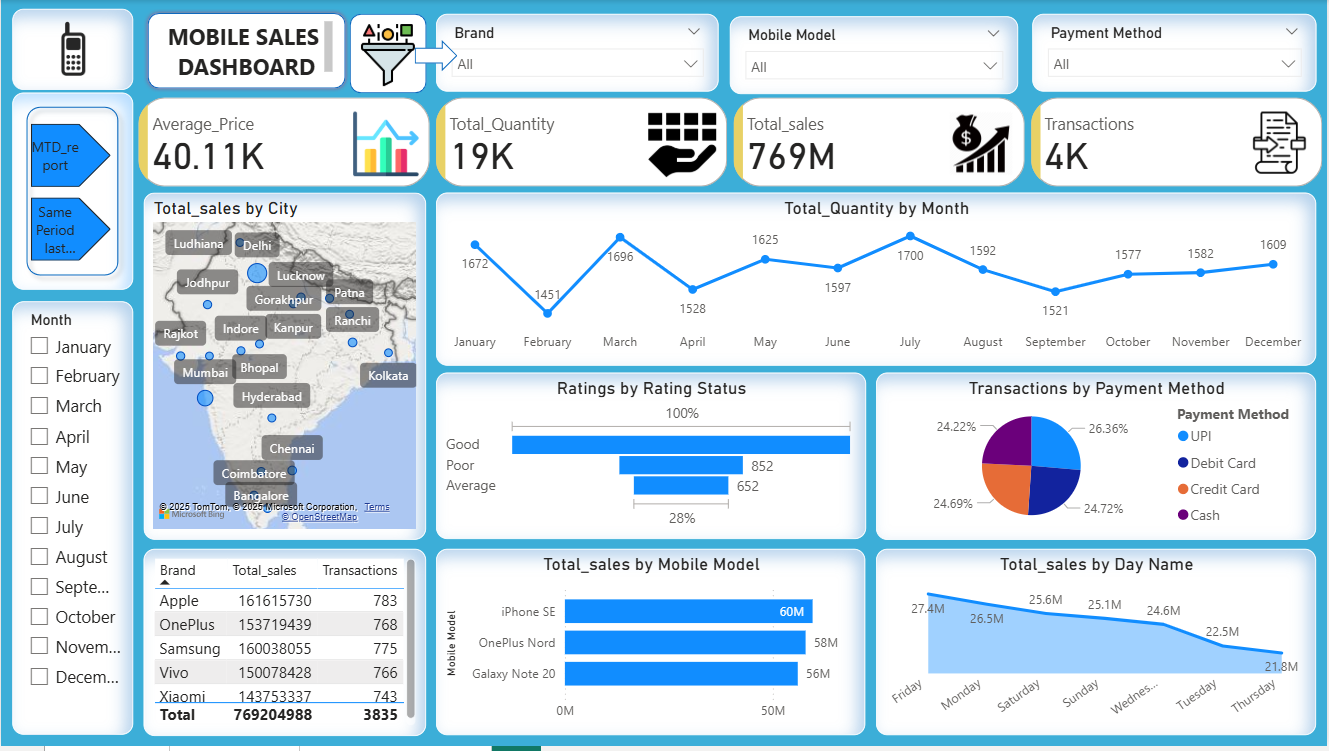

This screenshot's page, from the dashboard's own definition file:
{"tool":"powerbi","page":{"name":"Dashboard","canvas":[1280,720],"ordinal":0},"visuals":[{"type":"shape","box":[11,8.2,116.6,78.2],"z":0},{"type":"image","box":[10.9,8.4,117,78.4],"z":1000},{"type":"shape","box":[11,89.2,116.6,190.7],"z":2000},{"type":"shape","box":[11,290.9,116.6,418.5],"z":3000},{"type":"cardVisual","fields":{"Data":["sales_data.Average_Price","sales_data.Total_Quantity","sales_data.Total_sales","sales_data.Transactions"]},"box":[127.9,89.3,1152.2,96.5],"z":4000},{"type":"slicer","fields":{"Values":["sales_data.Payment Method"]},"box":[994.9,13.7,274.4,75.5],"z":5000},{"type":"slicer","fields":{"Values":["sales_data.Mobile Model"]},"box":[703.9,15.1,278.6,75.5],"z":6000},{"type":"slicer","fields":{"Values":["sales_data.Brand"]},"box":[419.9,13.7,273.1,75.5],"z":7000},{"type":"shape","box":[336.2,13.7,74.1,76.8],"z":8000},{"type":"image","box":[336.2,8.2,74.1,89.2],"z":9000},{"type":"shape","box":[399.3,38.4,41.2,30.2],"z":10000},{"type":"shape","box":[137.2,8.2,199,81],"z":11000},{"type":"textbox","box":[152.3,15.1,172.9,63.1],"z":12000},{"type":"map","fields":{"Category":["sales_data.City"],"Size":["sales_data.Total_sales"]},"box":[137.2,185.2,273.1,334.8],"z":13000},{"type":"lineChart","fields":{"Y":["sales_data.Total_Quantity"],"Category":["Custom_Calender.date.Variation.Date Hierarchy.Month"]},"box":[419.9,185.2,849.4,167.4],"z":14000},{"type":"funnel","title":"Ratings by Rating Status","fields":{"Y":["CountNonNull(sales_data.Customer Ratings)"],"Category":["sales_data.Rating Status"]},"box":[419.8,359.5,415,160.5],"z":15000},{"type":"pieChart","fields":{"Category":["sales_data.Payment Method"],"Y":["sales_data.Transactions"]},"box":[844.5,359.5,424.7,161.7],"z":16000},{"type":"clusteredBarChart","fields":{"Y":["sales_data.Total_sales"],"Category":["sales_data.Mobile Model"]},"box":[419.9,529.7,414.4,179.8],"z":17000},{"type":"areaChart","fields":{"Y":["sales_data.Total_sales"],"Category":["Custom_Calender.Day Name"]},"box":[844.5,529.6,424.7,179.8],"z":18000},{"type":"tableEx","fields":{"Values":["sales_data.Brand","sales_data.Total_sales","sales_data.Transactions"]},"box":[137.5,529.6,272.7,181],"z":19000},{"type":"slicer","fields":{"Values":["Custom_Calender.date.Variation.Date Hierarchy.Month"]},"box":[10.9,290.8,117,418.6],"z":20000},{"type":"pageNavigator","box":[29,119.4,77.2,133.9],"z":20001}]}

Visuals, with their boxes in screenshot pixels (x1, y1, x2, y2), scaled from the page's 1280x720 canvas onto the 1329x751 screenshot:
shape: 11 9 132 90
image: 11 9 133 91
shape: 11 93 132 292
shape: 11 303 132 740
cardVisual - sales_data.Average_Price x sales_data.Total_Quantity: 133 93 1328 194
slicer - sales_data.Payment Method: 1033 14 1318 93
slicer - sales_data.Mobile Model: 731 16 1020 95
slicer - sales_data.Brand: 436 14 720 93
shape: 349 14 426 94
image: 349 9 426 102
shape: 415 40 457 72
shape: 142 9 349 93
textbox: 158 16 338 82
map - sales_data.City x sales_data.Total_sales: 142 193 426 542
lineChart - sales_data.Total_Quantity x Custom_Calender.date.Variation.Date Hierarchy.Month: 436 193 1318 368
"Ratings by Rating Status" funnel: 436 375 867 542
pieChart - sales_data.Payment Method x sales_data.Transactions: 877 375 1318 544
clusteredBarChart - sales_data.Total_sales x sales_data.Mobile Model: 436 553 866 740
areaChart - sales_data.Total_sales x Custom_Calender.Day Name: 877 552 1318 740
tableEx - sales_data.Brand x sales_data.Total_sales: 143 552 426 741
slicer - Custom_Calender.date.Variation.Date Hierarchy.Month: 11 303 133 740
pageNavigator: 30 125 110 264
